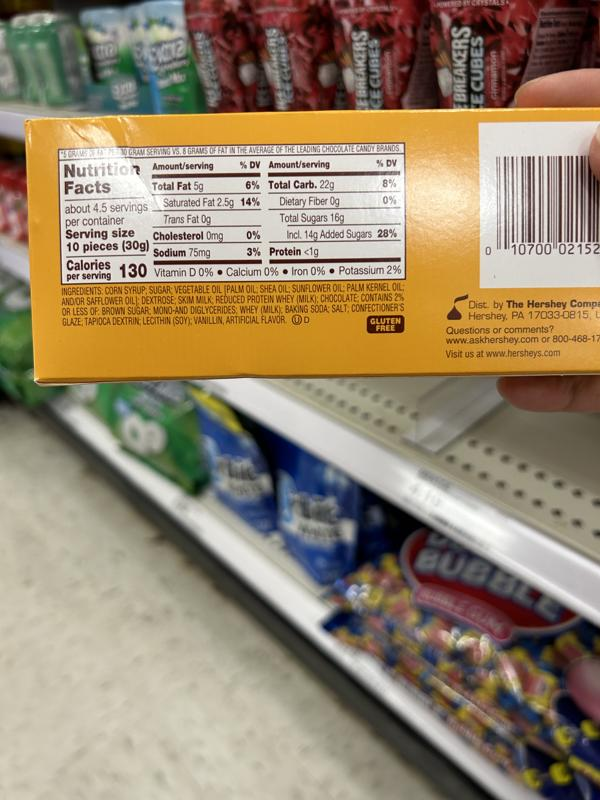ingredients: (60, 282, 409, 327)
